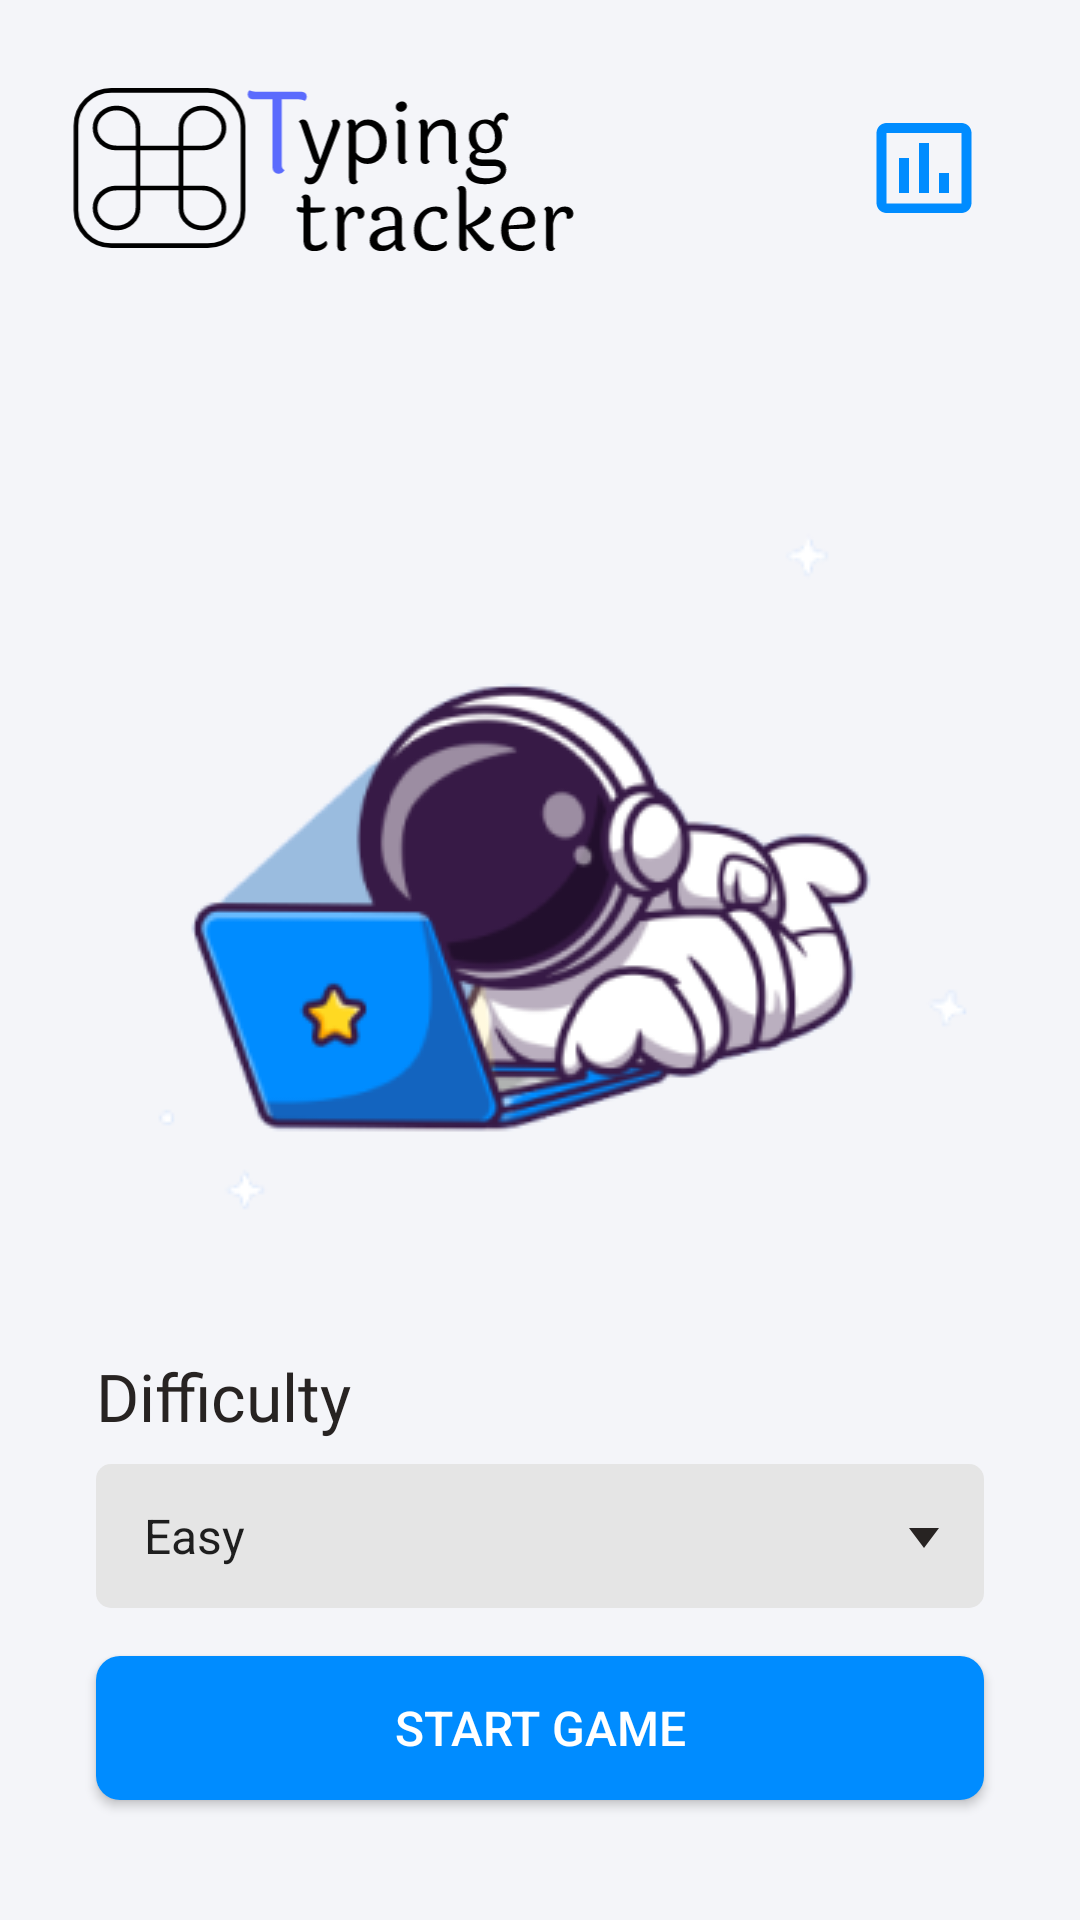

Icons on this 1080px×1920px Android screen, each with the point to tap as (x,y):
insert chart: (924,168)
